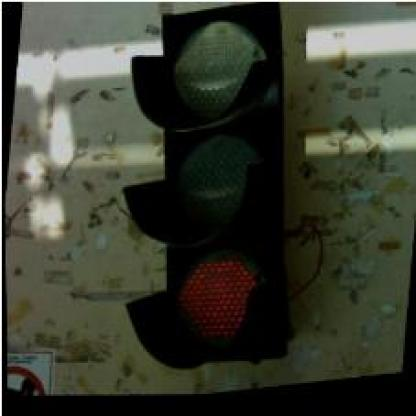red: (99, 1, 322, 391)
